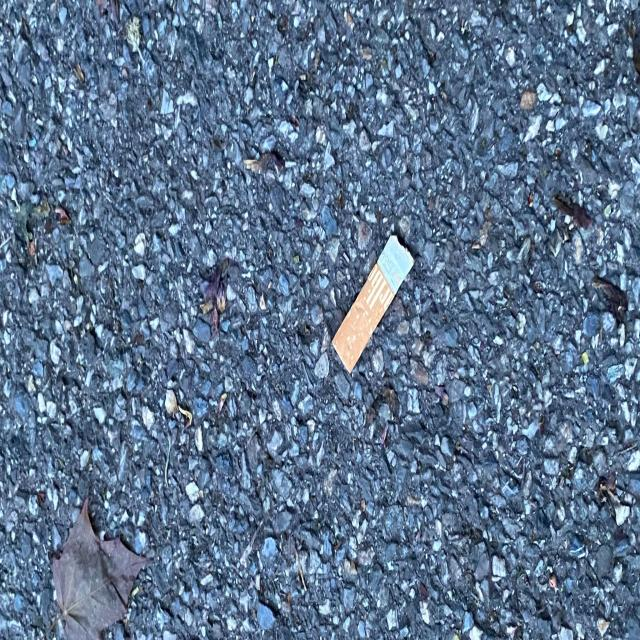other waste: (331, 230, 415, 376)
